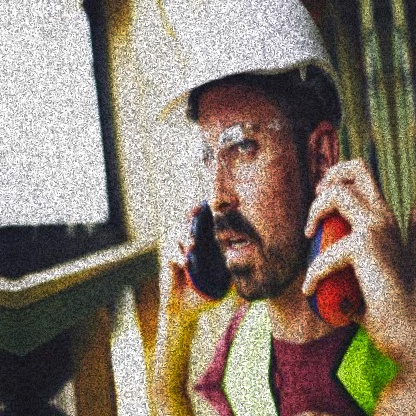white: (127, 0, 358, 133)
